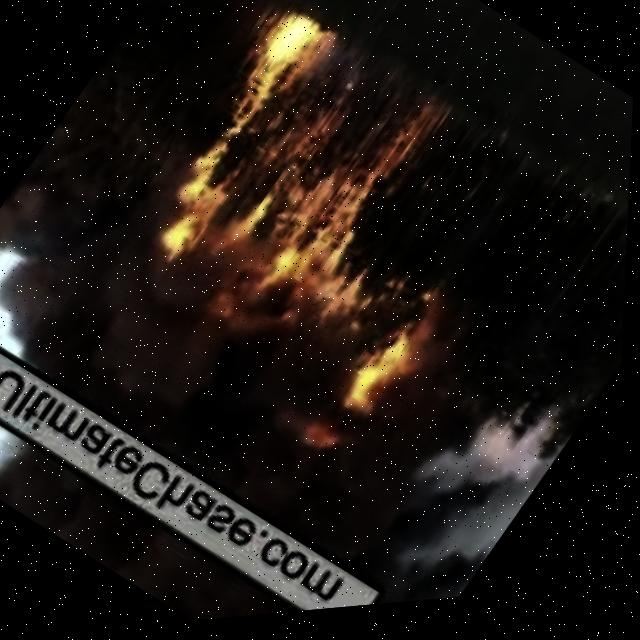Fire: (101, 0, 463, 374), (0, 394, 417, 640), (290, 275, 474, 495)
Smoke: (0, 96, 576, 640)
